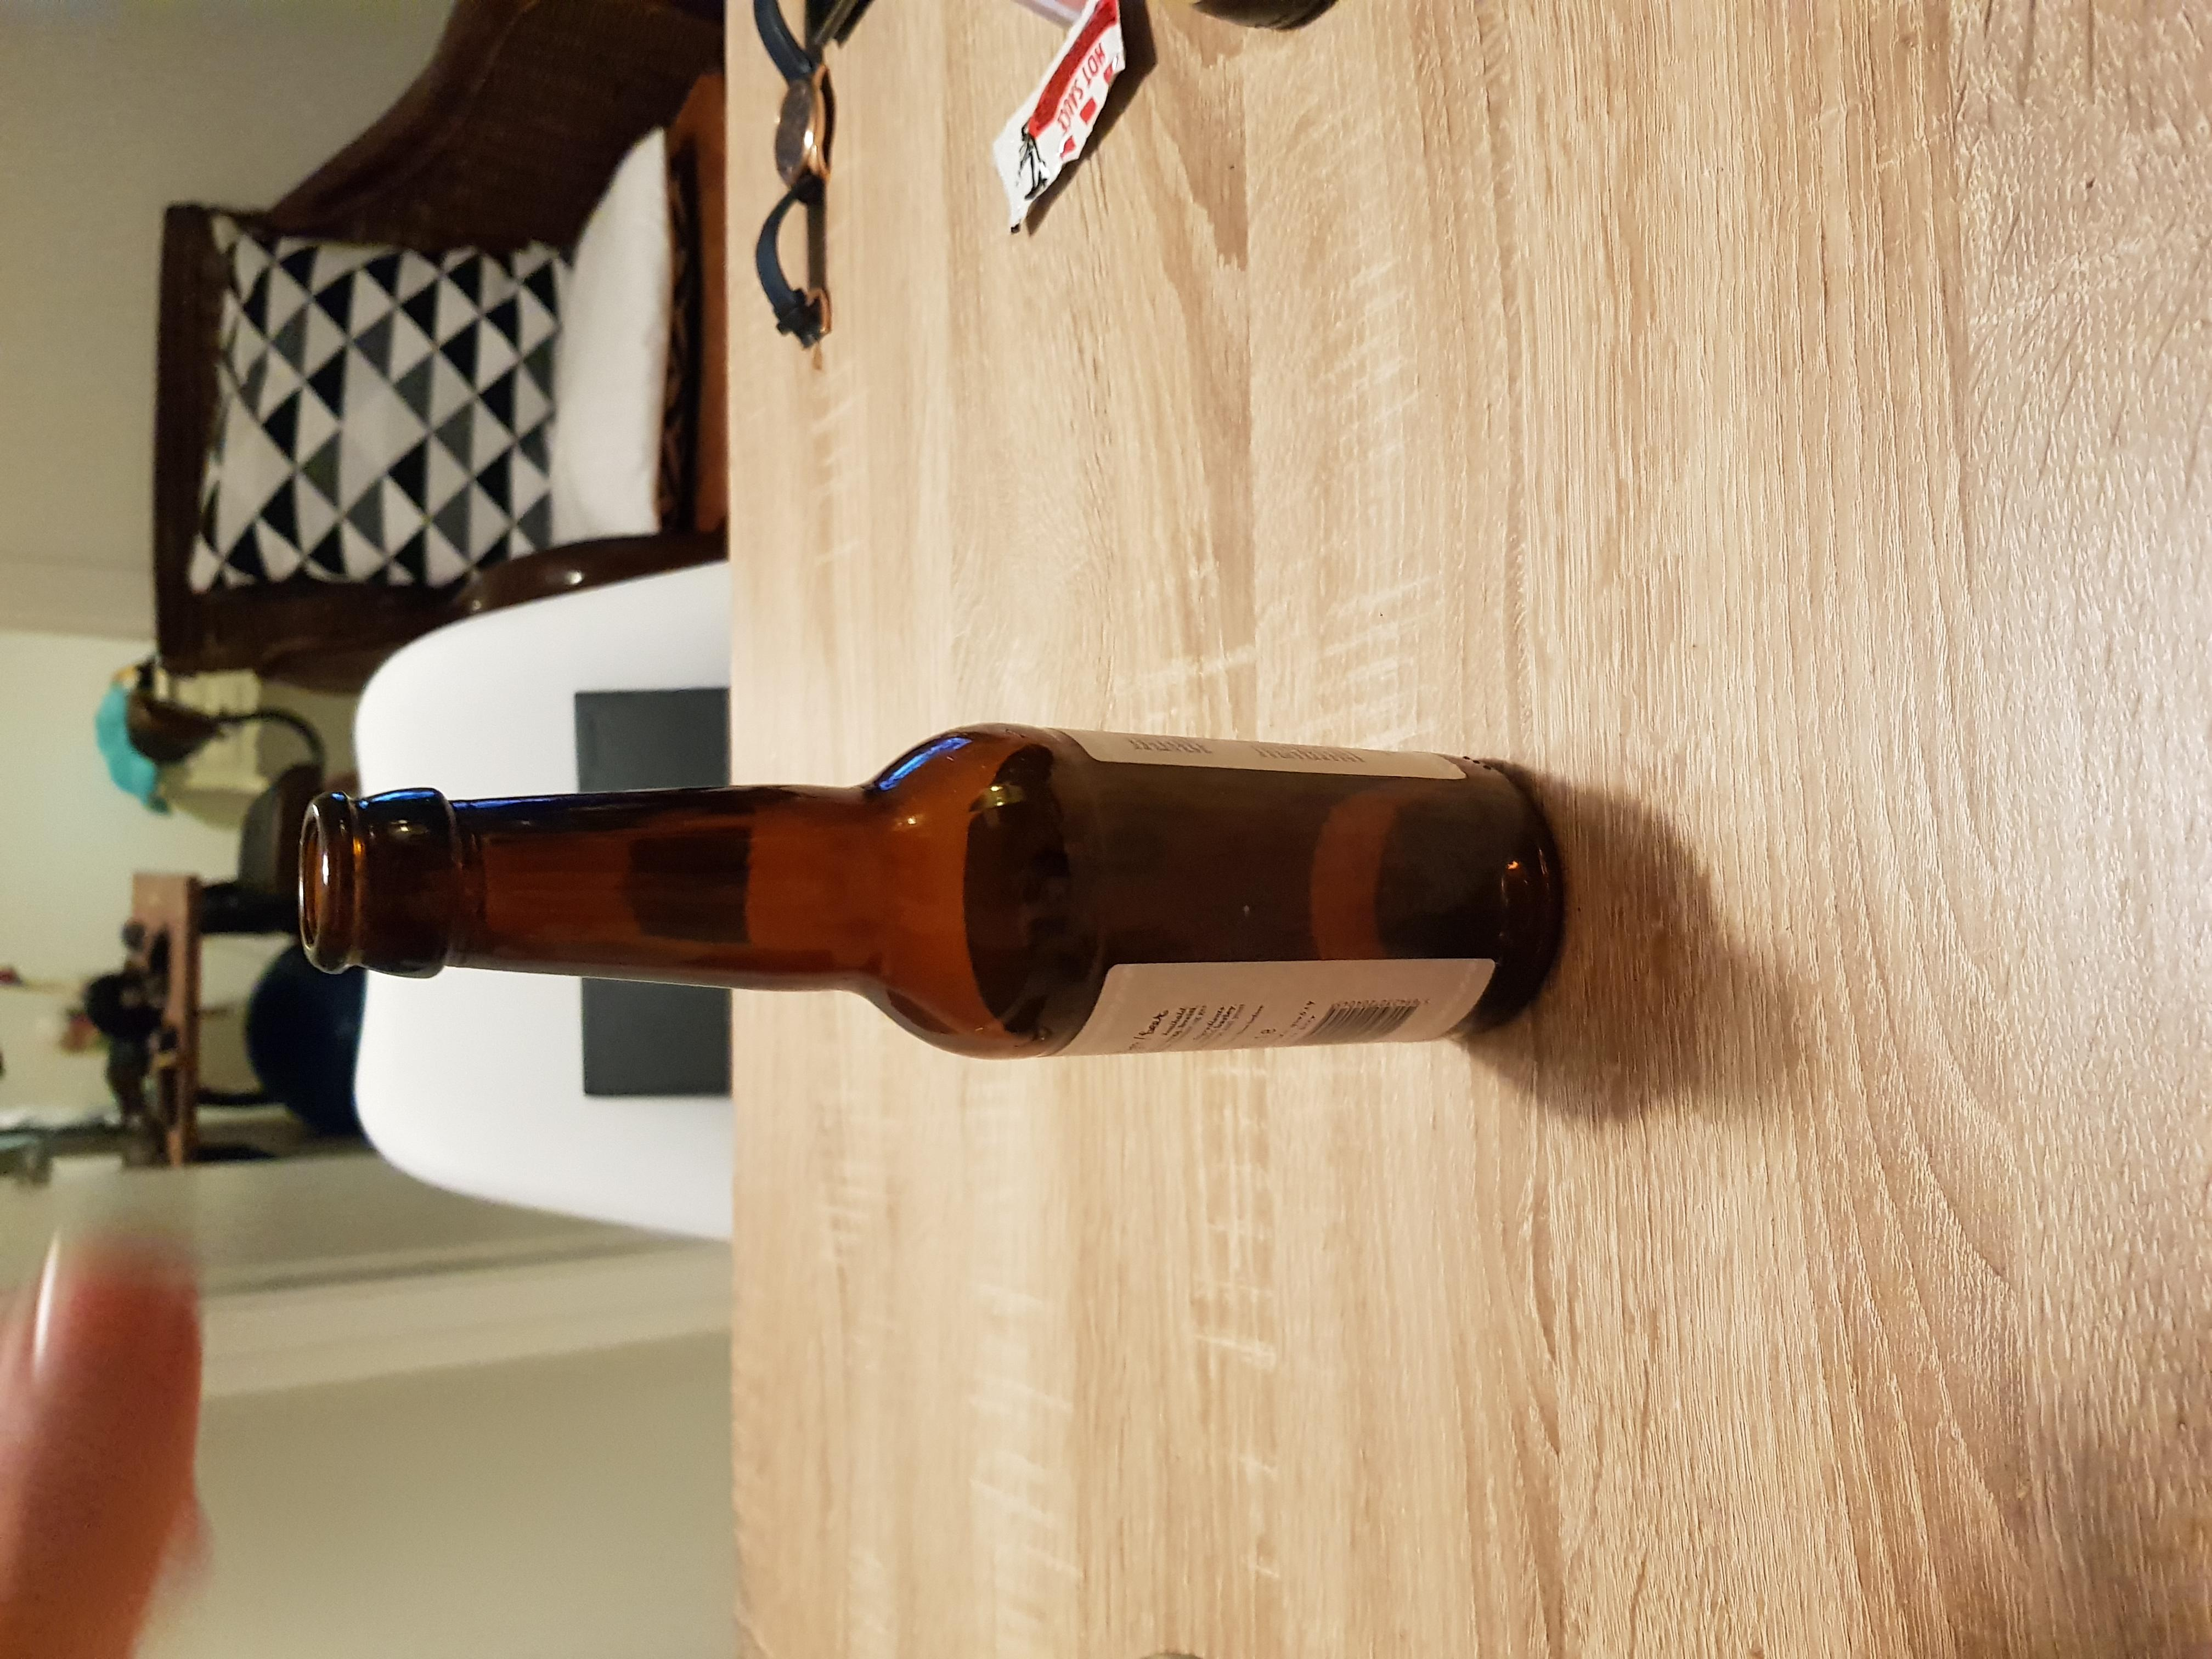Bottle: (294, 730, 1561, 1065)
